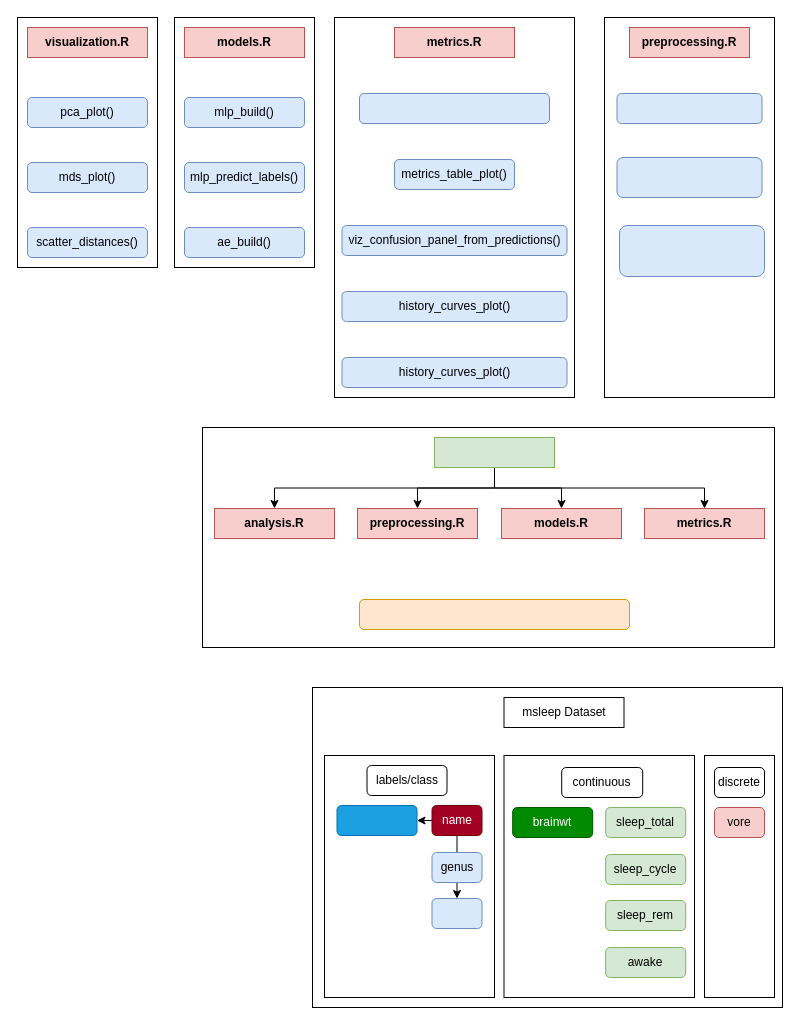
This 800x1025 diagram has some shape labels left out. The shapes that lost their labels are listed below. From the top down, each one's centre as x and y in pixels, then its label:
point (454, 108): viz_confusion_heatmap_sums()
point (689, 108): stratified_split (y, prop = 0.7)
point (689, 177): standardize_train_test (x, idx_train, idx_test)
point (691, 250): predict_by_centroids (z_train, y_train, z_test, class_levels)
point (494, 452): run_iris.R
point (494, 614): run_iris (seed = 123L, verbose = FALSE)
point (376, 820): conservation
point (456, 913): order
